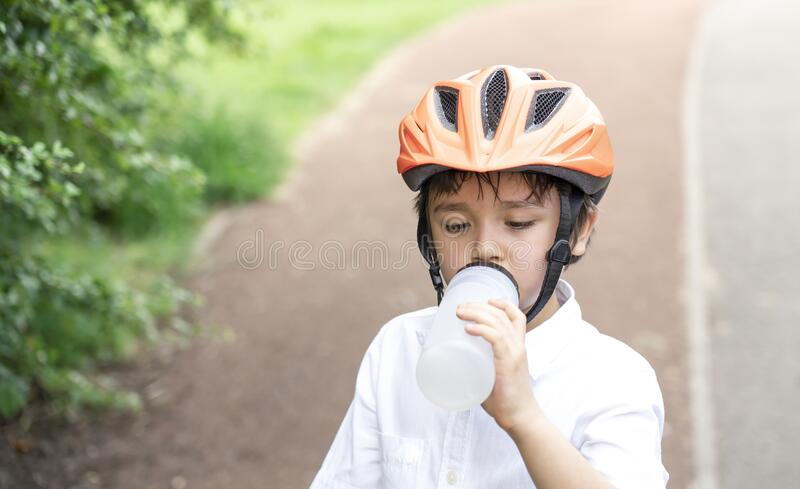helmet: (397, 65, 613, 321)
